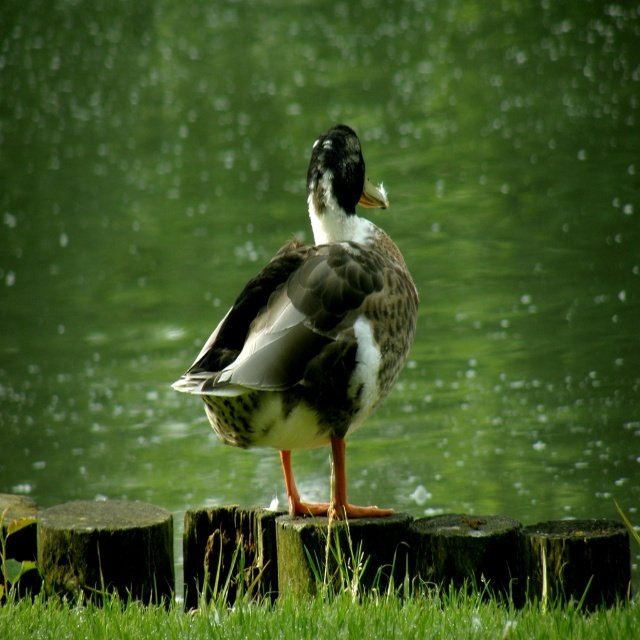Duck: (169, 122, 422, 518)
